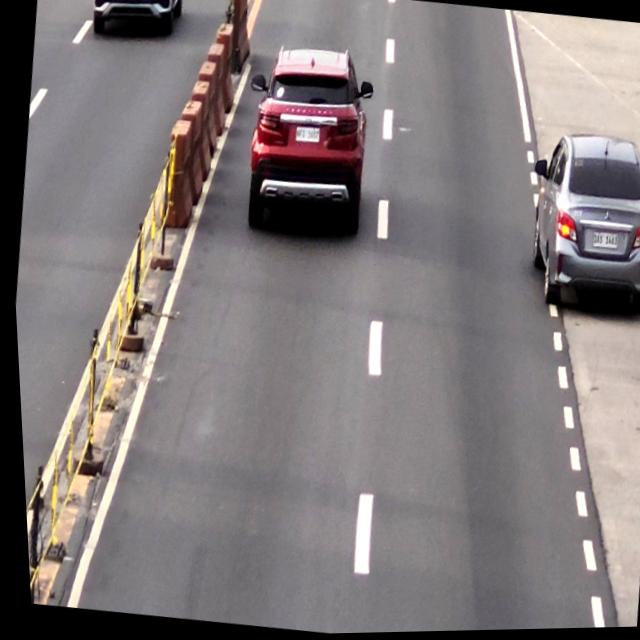Car: (235, 45, 375, 240), (519, 133, 640, 302)
License-Plate: (586, 230, 619, 256), (291, 124, 322, 151)
